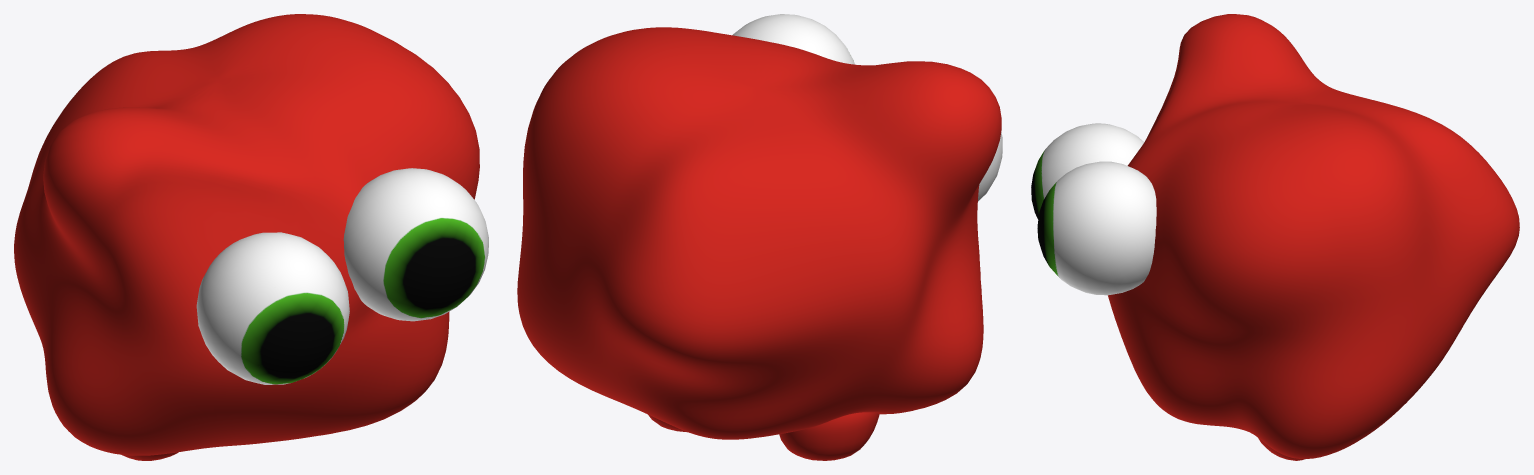
Rendered from RED.gltf.
The picture shows the model from 3 angles, left to right: view 1: azimuth 30°, elevation 25°; view 2: azimuth 150°, elevation 25°; view 3: azimuth 270°, elevation 25°; orthographic projection. The views are drawn at different scales.
Parts seen in each view (by area): view 1: BODY.003, L EYE.001, L EYE.007; view 2: BODY.003, L EYE.007, L EYE.001; view 3: BODY.003, L EYE.007, L EYE.001.
Boxes of the visible parts, x1,y1,x2,y2 form: BODY.003: (14,14,479,460); L EYE.001: (196,232,349,384); L EYE.007: (343,168,488,321); BODY.003: (517,27,1001,460); L EYE.007: (732,14,854,64); L EYE.001: (978,132,1002,201); BODY.003: (1108,14,1519,460); L EYE.007: (1037,161,1156,295); L EYE.001: (1031,123,1144,219).
Size of the model in its own units: 4.1 by 3.53 by 4.61.
2 materials, 1 textured.
